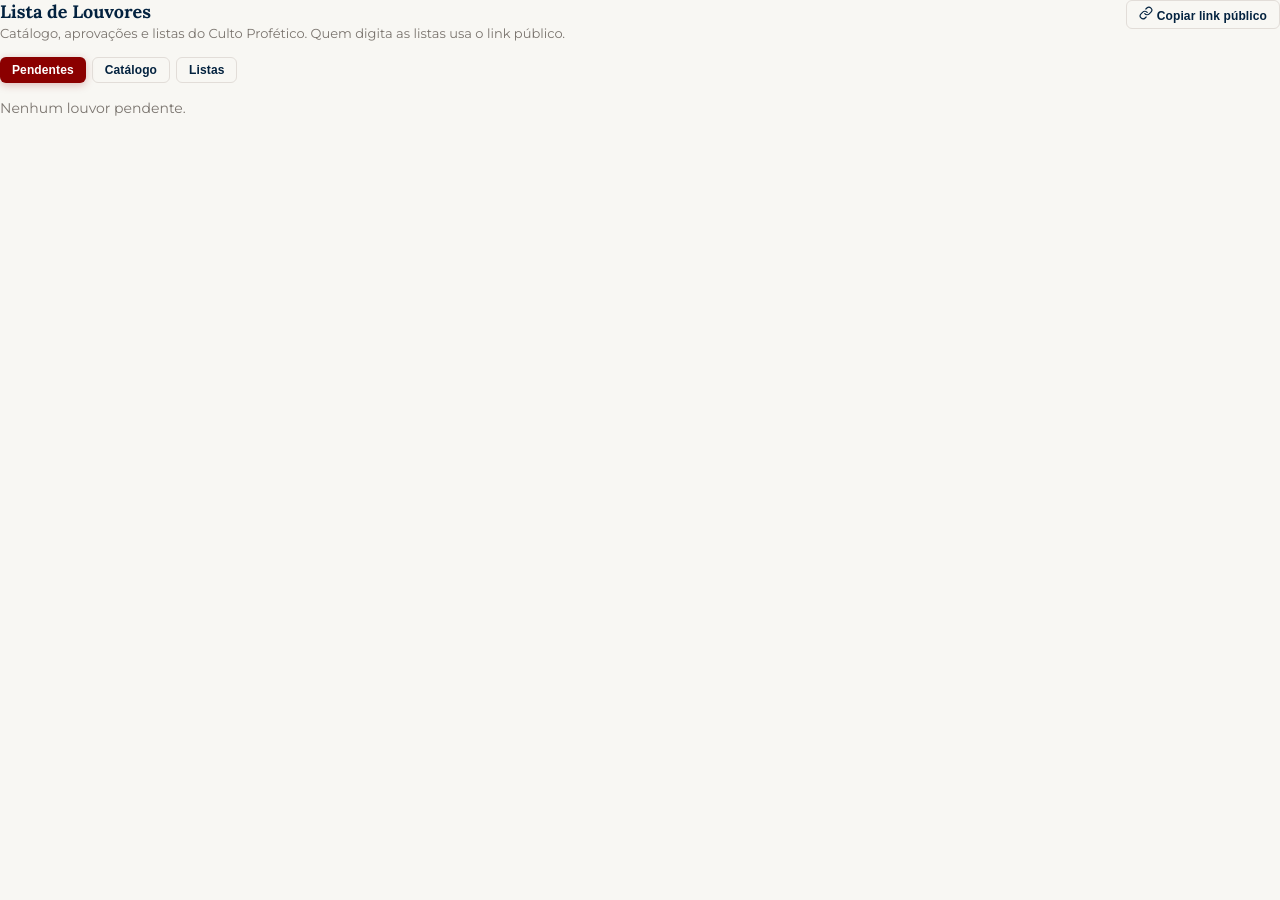
Test: Catálogo shows and edits only the number › the edit form has a Number field (digits only) and saves the internal code from the category
Click the button "Catálogo" at (131, 70), box [92,57,170,83]
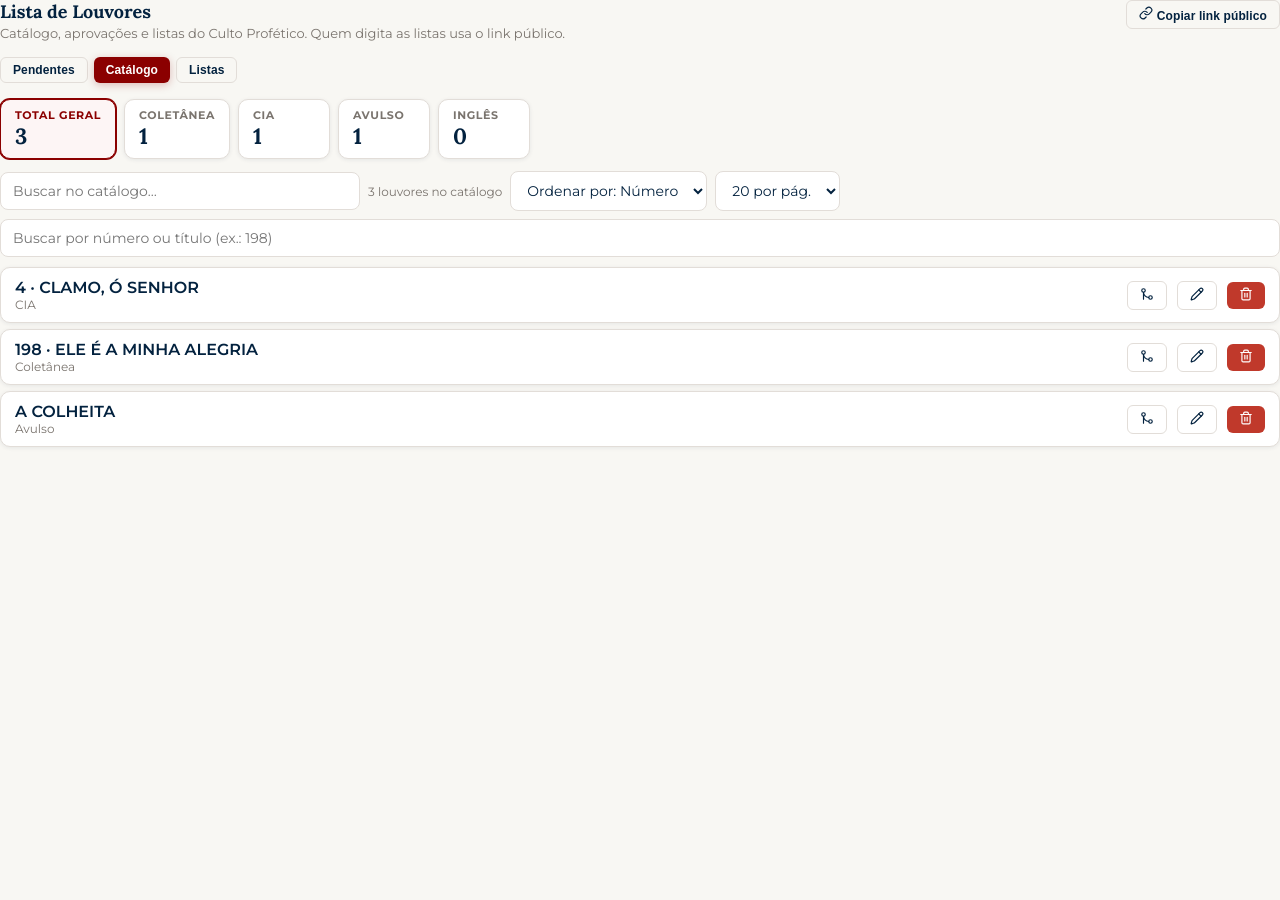
Expected: the element named "Filtrar por categoria" is shown, [0,99,530,159]
Click the button named "Editar" in the row of "198 · ELE É A MINHA ALEGRIA" at (1197, 357), box [1177,342,1217,372]
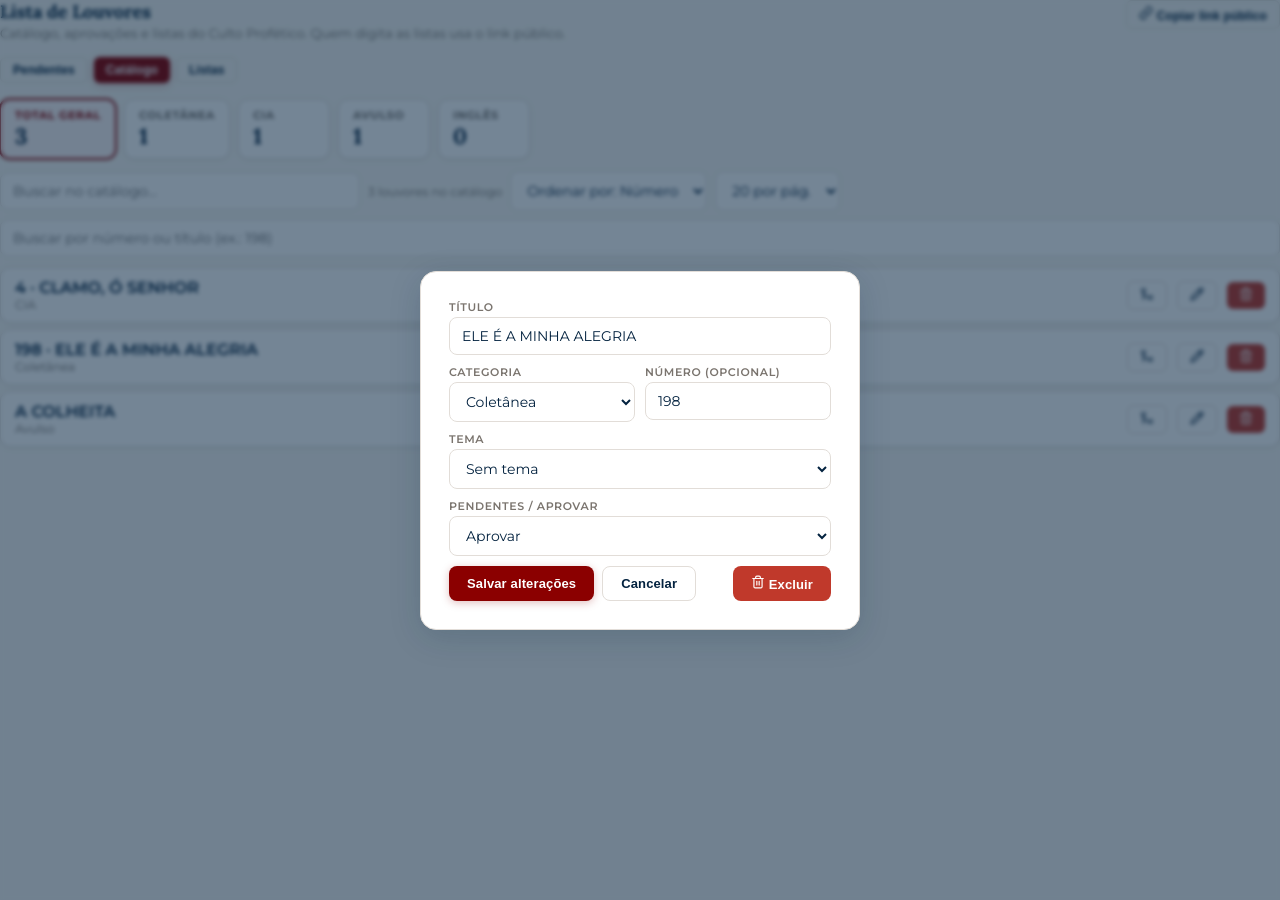
Expected: the field with placeholder "Ex.: 198" below "Número (opcional)" holds "198"
Replace the text in the field with placeholder "Ex.: 198" below "Número (opcional)" with "19a9" at (738, 400), box [645,382,831,420]
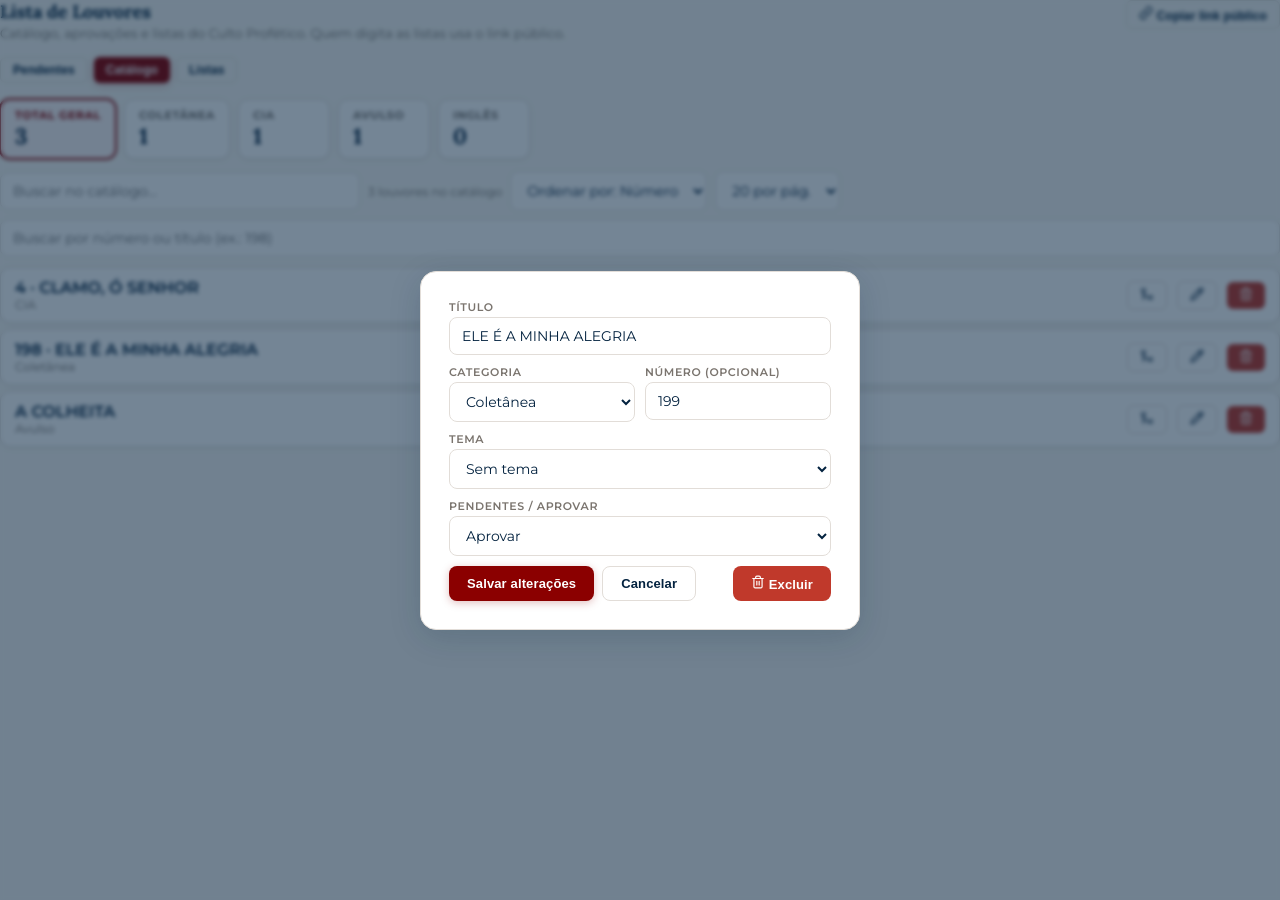
Expected: the field with placeholder "Ex.: 198" below "Número (opcional)" holds "199", [645,382,831,420]
Click the button "Salvar alterações" at (522, 583), box [449,566,594,600]
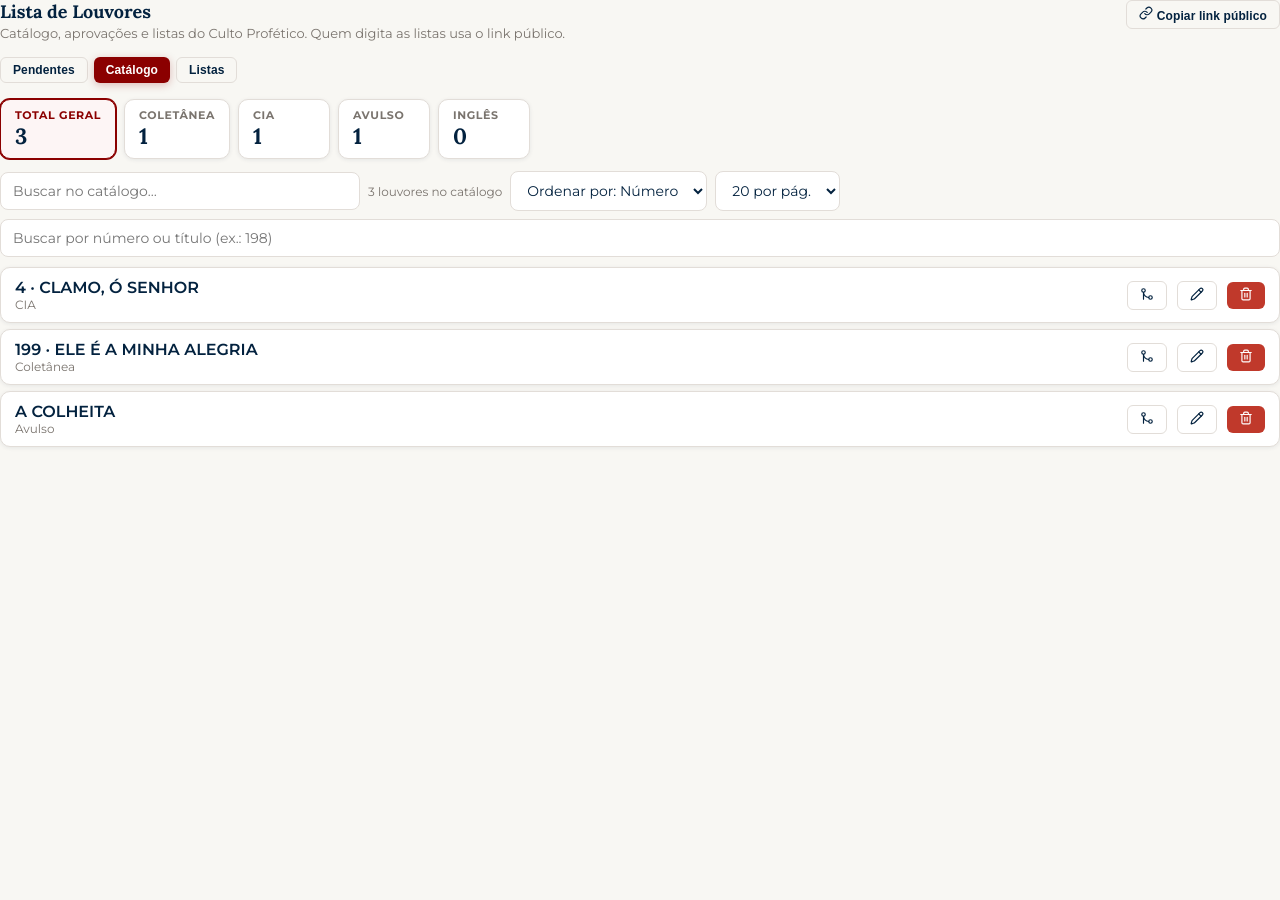
Expected: the text "199 · ELE É A MINHA ALEGRIA" is shown, [15,340,258,359]
